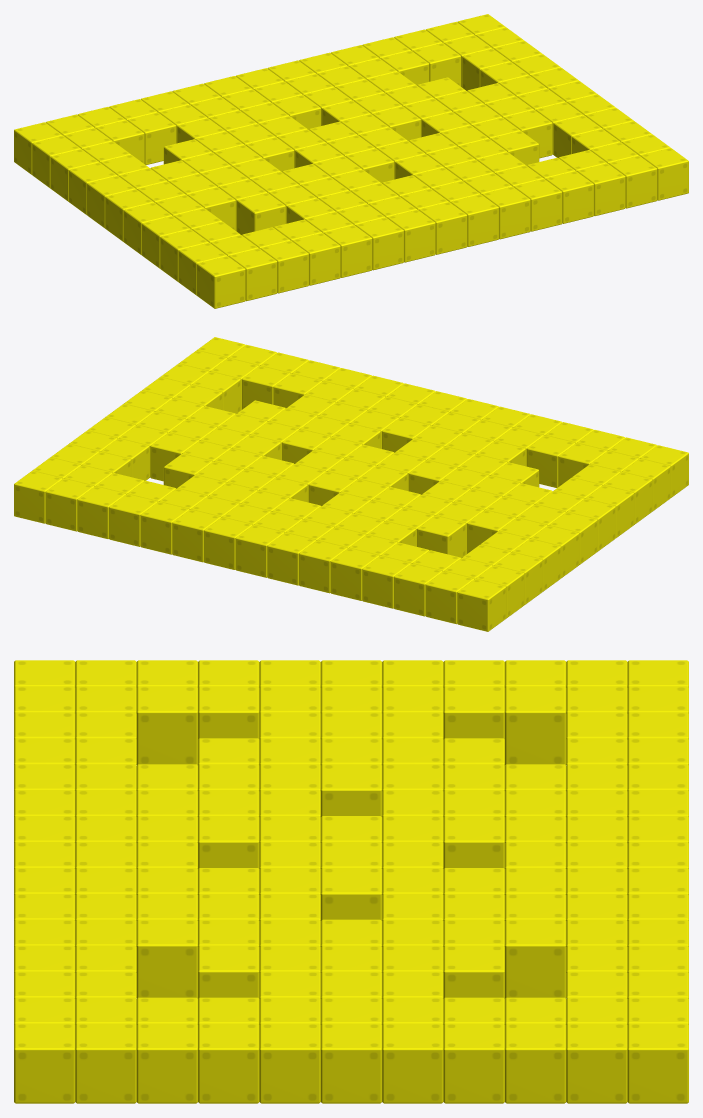
File: Ground_Mesh.fbx
3 renders of one model, top to bottom at view 1: azimuth 30°, elevation 25°; view 2: azimuth 150°, elevation 25°; view 3: azimuth 270°, elevation 25°, orthographic. The views are drawn at different scales.
Parts seen in each view (by area): view 1: WorkBlock8.010; view 2: WorkBlock8.010; view 3: WorkBlock8.010.
Part boxes in pixels (x1,y1,x2,y2): WorkBlock8.010: [14, 14, 688, 308]; WorkBlock8.010: [14, 337, 688, 631]; WorkBlock8.010: [14, 660, 688, 1103].
Size of the model in its own units: 1500 by 100 by 1100.
